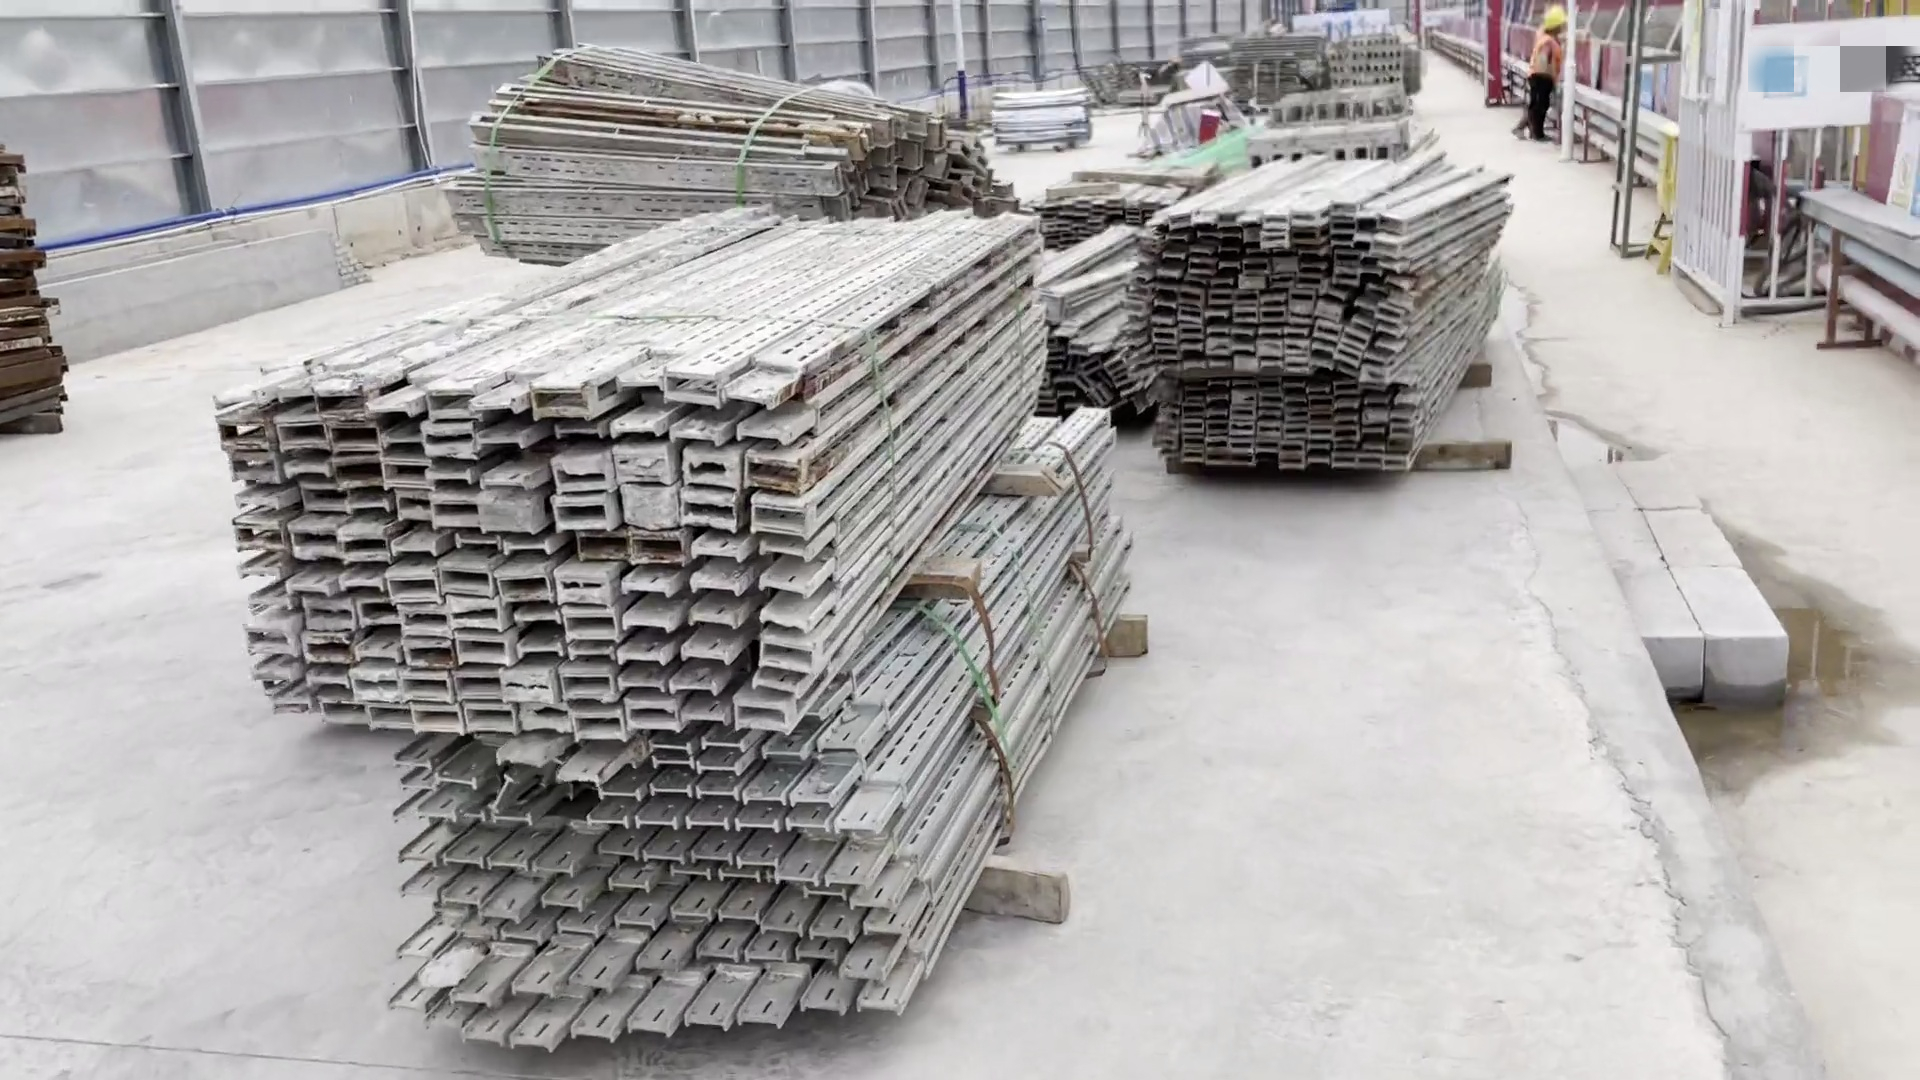brick: (1575, 443, 1803, 738)
ebox: (1641, 116, 1682, 278)
fence: (1571, 26, 1688, 134), (1867, 88, 1920, 222)
helmet: (1542, 4, 1573, 42)
person: (1508, 6, 1571, 161)
slogan: (1622, 35, 1668, 132)
vest: (1525, 35, 1571, 99)
